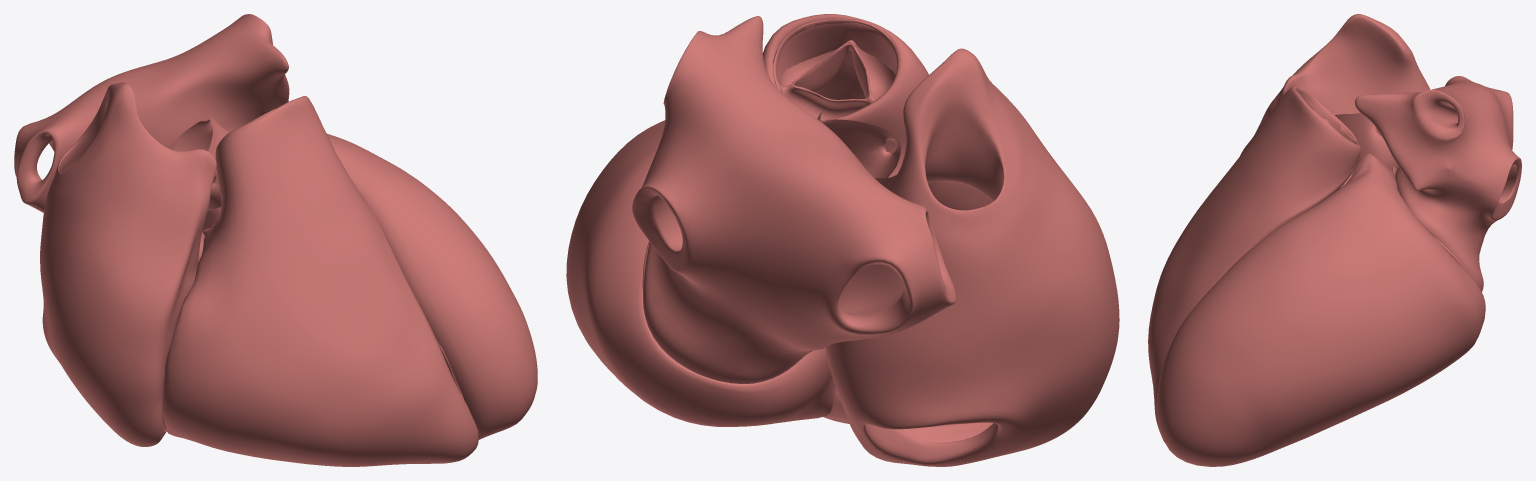
File: heart.glb
The picture shows the model from 3 angles, left to right: view 1: azimuth 30°, elevation 25°; view 2: azimuth 150°, elevation 25°; view 3: azimuth 270°, elevation 25°; orthographic projection. The views are drawn at different scales.
Parts seen in each view (by area): view 1: VH_M_mitral_valve, VH_M_aortic_valve; view 2: VH_M_mitral_valve, VH_M_aortic_valve; view 3: VH_M_mitral_valve, VH_M_aortic_valve.
Part boxes in pixels (x1,y1,x2,y2): VH_M_mitral_valve: [14, 14, 537, 466]; VH_M_aortic_valve: [170, 107, 479, 436]; VH_M_mitral_valve: [566, 14, 1119, 466]; VH_M_aortic_valve: [773, 19, 900, 188]; VH_M_mitral_valve: [1148, 14, 1521, 466]; VH_M_aortic_valve: [1295, 87, 1398, 187].
Size of the model in its own units: 0.1244 by 0.1054 by 0.1052.
